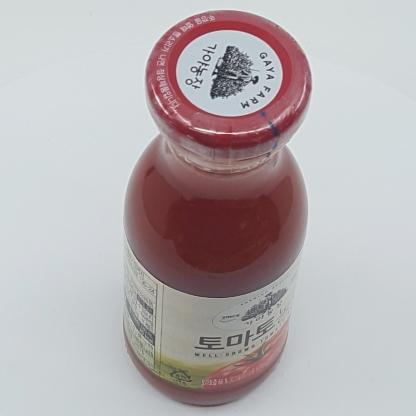-------180ML: (123, 10, 312, 405)
